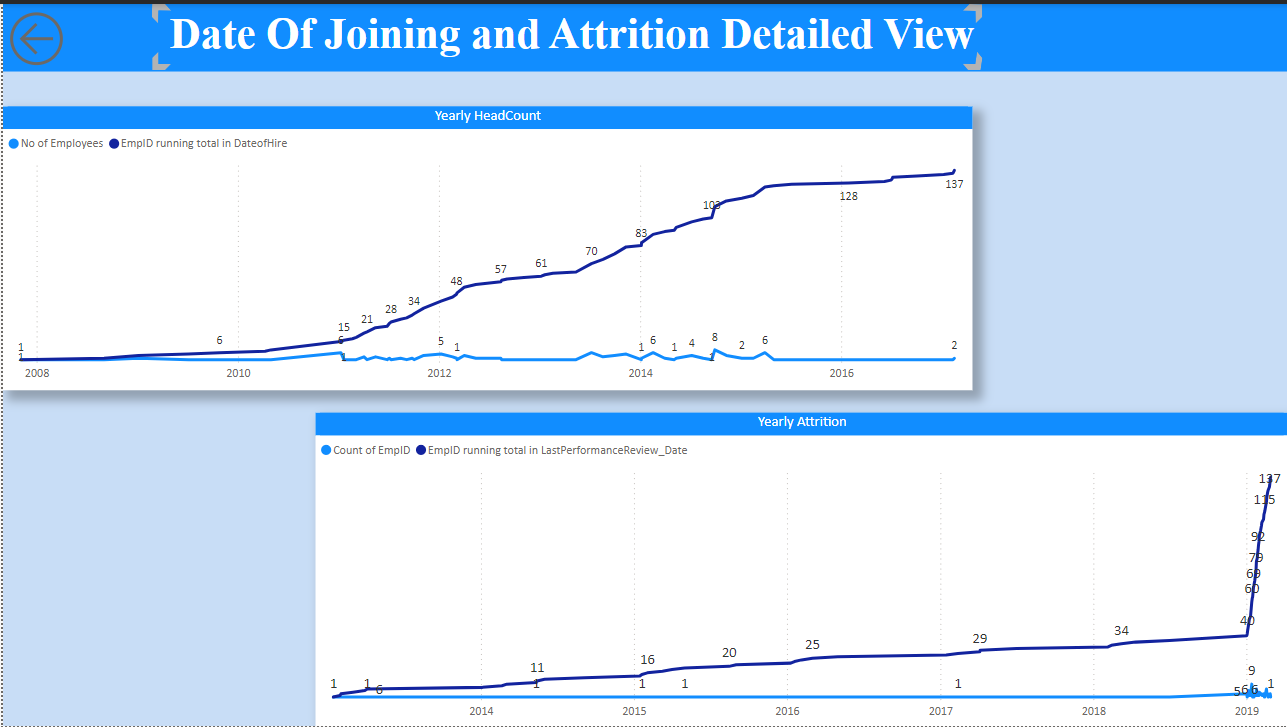

This screenshot's page, from the dashboard's own definition file:
{"tool":"powerbi","page":{"name":"Date Detailed","canvas":[1280,720],"ordinal":1},"visuals":[{"type":"shape","box":[0,0,1280,67.5],"z":0},{"type":"textbox","box":[116.2,0,901.2,65],"z":5000},{"type":"shape","box":[911.9,0,106,19.5],"z":5000,"group":"g1"},{"type":"actionButton","box":[0,1.1,74.4,66.7],"z":6000},{"type":"shape","box":[911.9,47,106,18.8],"z":6000,"group":"g1"},{"type":"shape","box":[127.3,0,62,19.5],"z":7000,"group":"g1"},{"type":"group","id":"g1","title":"Group 1","box":[127.3,0,890,65.5],"z":7000},{"type":"shape","box":[127.3,47,62,18.8],"z":8000,"group":"g1"},{"type":"lineChart","title":"Yearly HeadCount","fields":{"Category":["HR.DateofHire"],"Y":["All Measures.No of Employees","All Measures.EmpID running total in DateofHire"]},"box":[0,102.5,965,282.5],"z":8000},{"type":"lineChart","title":"Yearly Attrition","fields":{"Y":["CountNonNull(HR.EmpID)","All Measures.EmpID running total in LastPerformanceReview_Date"],"Category":["HR.LastPerformanceReview_Date"]},"box":[311.2,406.2,968.8,313.8],"z":9000}]}

Visuals, with their boxes in screenshot pixels (x1, y1, x2, y2), scaled from the page's 1280x720 canvas onto the 1287x727 screenshot:
shape: {"x1": 0, "y1": 0, "x2": 1286, "y2": 68}
textbox: {"x1": 117, "y1": 0, "x2": 1023, "y2": 66}
shape: {"x1": 917, "y1": 0, "x2": 1023, "y2": 20}
actionButton: {"x1": 0, "y1": 1, "x2": 75, "y2": 68}
shape: {"x1": 917, "y1": 47, "x2": 1023, "y2": 66}
shape: {"x1": 128, "y1": 0, "x2": 190, "y2": 20}
"Group 1" group: {"x1": 128, "y1": 0, "x2": 1023, "y2": 66}
shape: {"x1": 128, "y1": 47, "x2": 190, "y2": 66}
"Yearly HeadCount" lineChart: {"x1": 0, "y1": 103, "x2": 970, "y2": 389}
"Yearly Attrition" lineChart: {"x1": 313, "y1": 410, "x2": 1286, "y2": 726}
